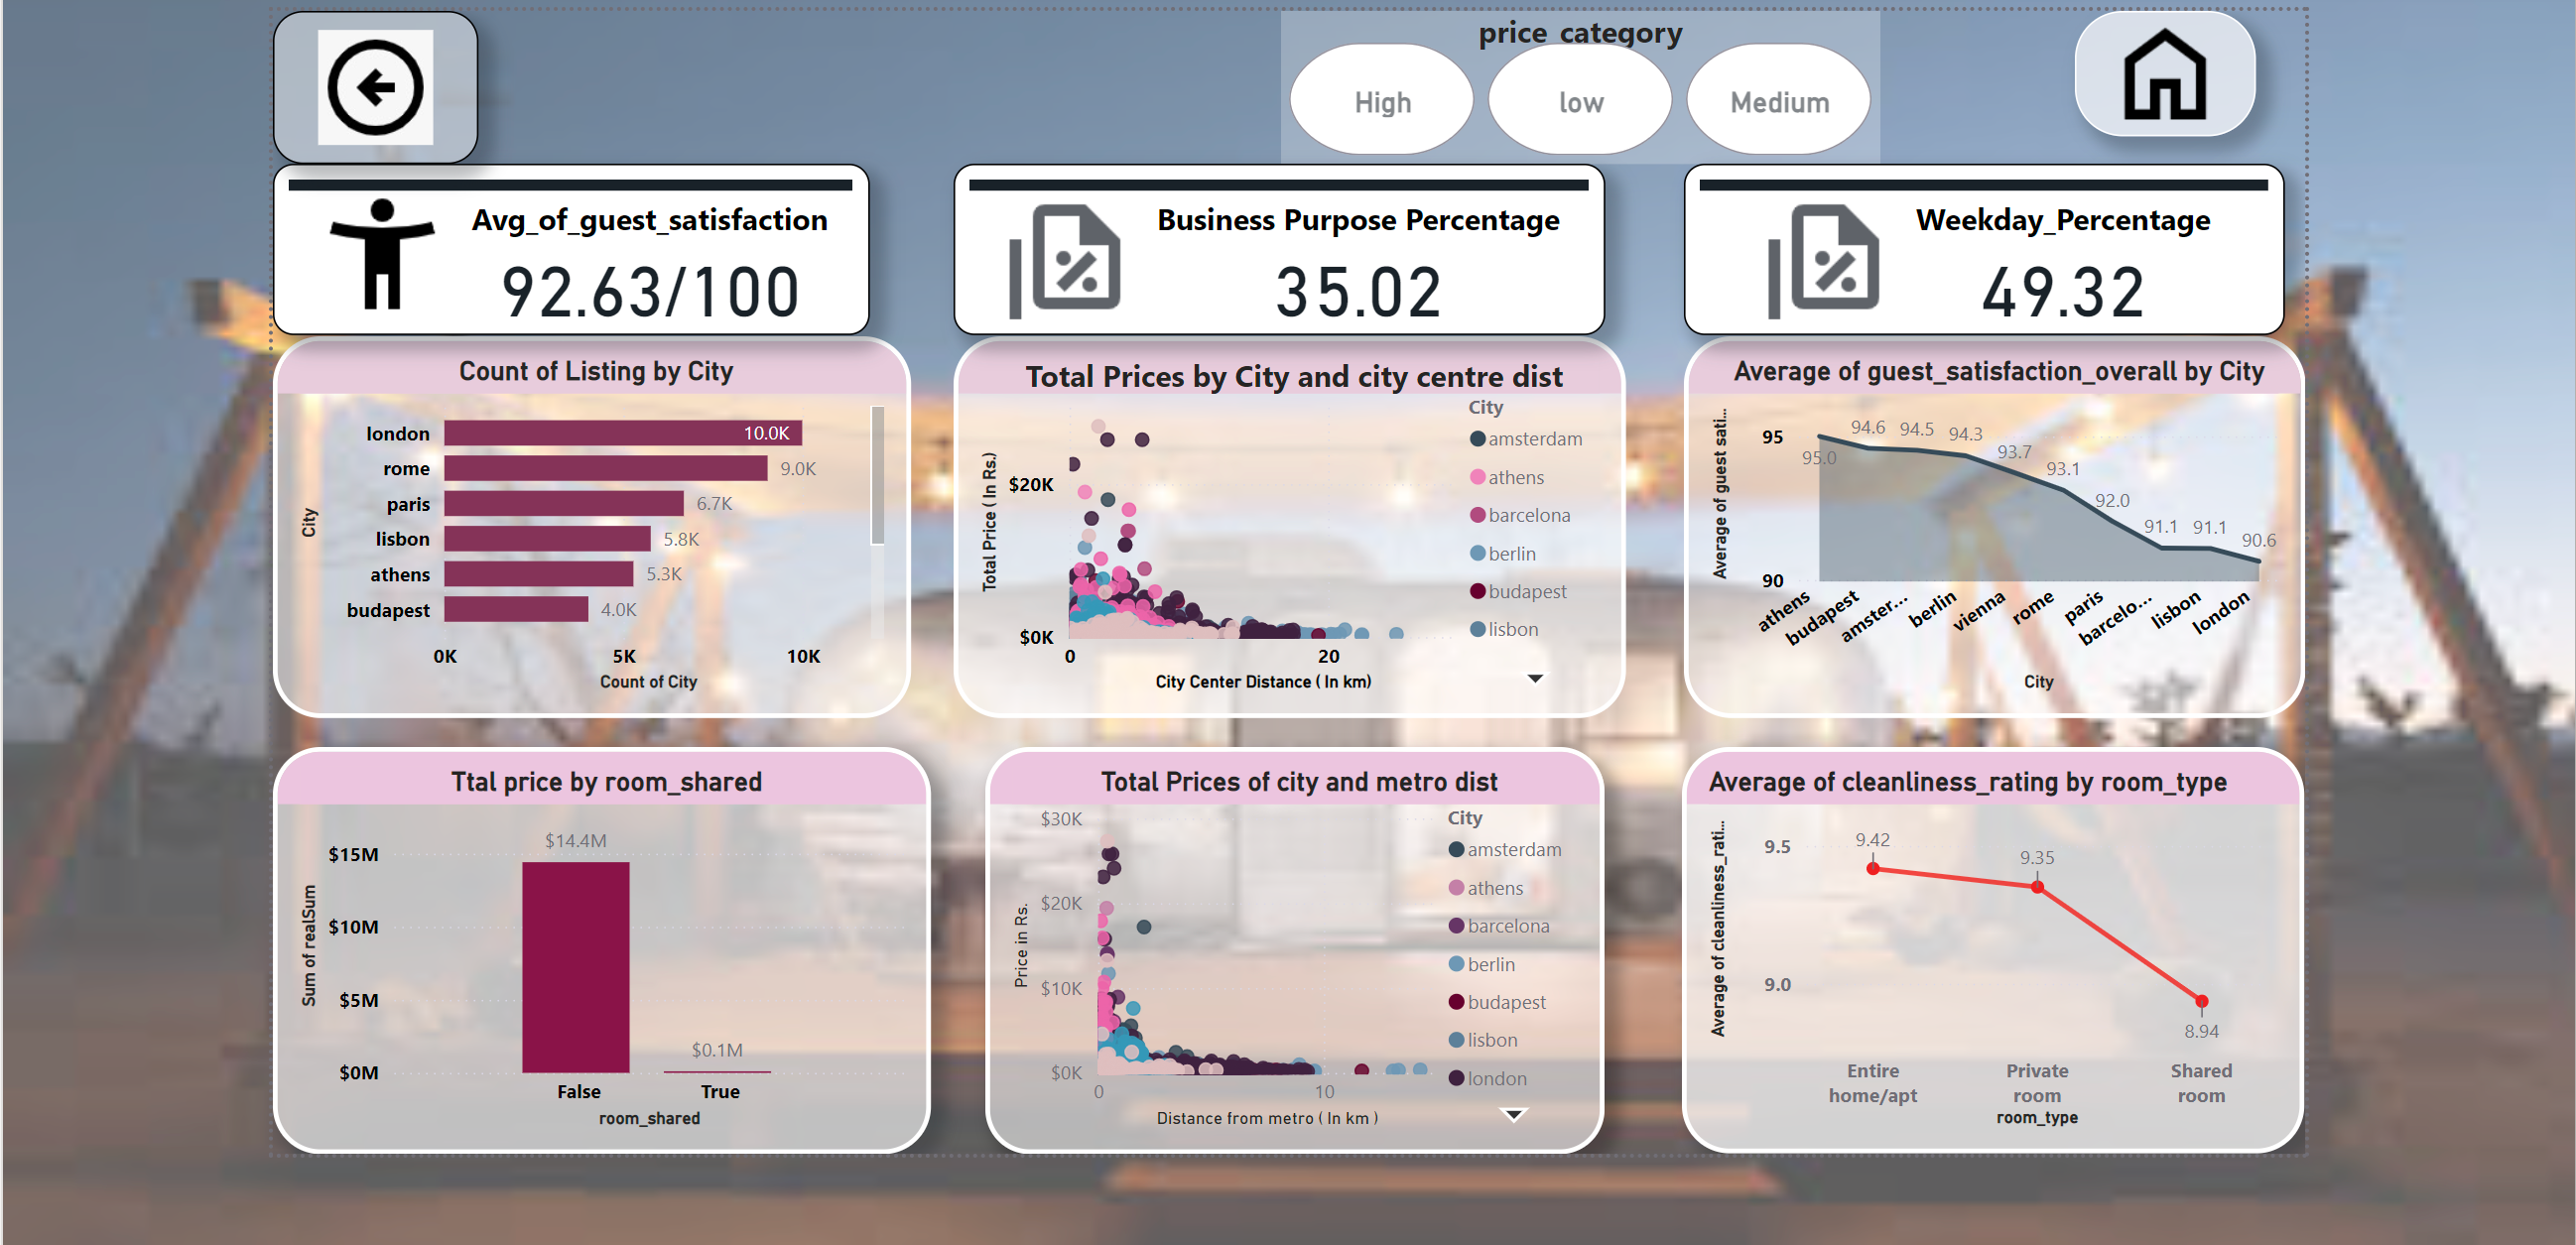

The page's visual inventory and layout, read from the dashboard file:
{"tool":"powerbi","page":{"name":"Hosts & Listings Insights","canvas":[1280,720],"ordinal":2},"visuals":[{"type":"clusteredBarChart","title":"Count of Listing by City","fields":{"Category":["airbnb_eu.City"],"Y":["CountNonNull(airbnb_eu.City)"]},"box":[0,204.5,401.8,240.5],"z":0},{"type":"scatterChart","title":"Total Prices by City and city centre dist","fields":{"Y":["Sum(airbnb_eu.realSum)"],"Series":["airbnb_eu.City"],"X":["airbnb_eu.city_cntr_dist"]},"box":[429.1,204.5,423.4,240.5],"z":1000},{"type":"areaChart","fields":{"Category":["airbnb_eu.City"],"Y":["Avg(airbnb_eu.guest_satisfaction_overall)"]},"box":[888.5,204.5,391.7,240.5],"z":2000},{"type":"columnChart","title":"Ttal price by room_shared","fields":{"Category":["airbnb_eu.room_shared"],"Y":["Sum(airbnb_eu.realSum)"]},"box":[0,463.7,414.7,256.3],"z":3000},{"type":"scatterChart","title":"Total Prices of city and metro dist","fields":{"X":["airbnb_eu.metro_dist"],"Y":["airbnb_eu.realSum"],"Series":["airbnb_eu.City"]},"box":[449.3,463.7,390.2,256.3],"z":4000},{"type":"cardVisual","title":"Average satisfaction level","fields":{"Data":["airbnb_eu.Avg_of_guest_satisfaction"]},"box":[0,96.5,375.8,108],"z":5000},{"type":"lineChart","fields":{"Category":["airbnb_eu.room_type"],"Y":["Avg(airbnb_eu.cleanliness_rating)"]},"box":[888,464,392,256],"z":6000},{"type":"advancedSlicerVisual","fields":{"Values":["airbnb_eu.price_category"]},"box":[635,0,377.3,96.5],"z":7000},{"type":"image","box":[1134.7,0,113.8,79.2],"z":8000},{"type":"cardVisual","title":"Average satisfaction level","fields":{"Data":["airbnb_eu.Business Purpose Percentage"]},"box":[429.1,96.5,410.4,108],"z":9000},{"type":"image","box":[0,0,129.6,96.5],"z":10000},{"type":"cardVisual","title":"Average satisfaction level","fields":{"Data":["airbnb_eu.Satisfaction_Price_Ratio"]},"box":[888.5,96.5,378.7,108],"z":11000}]}

Visuals, with their boxes on the page's 1280x720 design canvas (x1, y1, x2, y2). These are canvas units, not pixel positions in the 2576x1245 screenshot, which may show the page scaled, cropped or inside an application window:
"Count of Listing by City" clusteredBarChart: locate(0, 204, 402, 445)
"Total Prices by City and city centre dist" scatterChart: locate(429, 204, 852, 445)
areaChart - airbnb_eu.City x Avg(airbnb_eu.guest_satisfaction_overall): locate(888, 204, 1280, 445)
"Ttal price by room_shared" columnChart: locate(0, 464, 415, 720)
"Total Prices of city and metro dist" scatterChart: locate(449, 464, 840, 720)
"Average satisfaction level" cardVisual: locate(0, 96, 376, 204)
lineChart - airbnb_eu.room_type x Avg(airbnb_eu.cleanliness_rating): locate(888, 464, 1280, 720)
advancedSlicerVisual - airbnb_eu.price_category: locate(635, 0, 1012, 96)
image: locate(1135, 0, 1248, 79)
"Average satisfaction level" cardVisual: locate(429, 96, 840, 204)
image: locate(0, 0, 130, 96)
"Average satisfaction level" cardVisual: locate(888, 96, 1267, 204)
